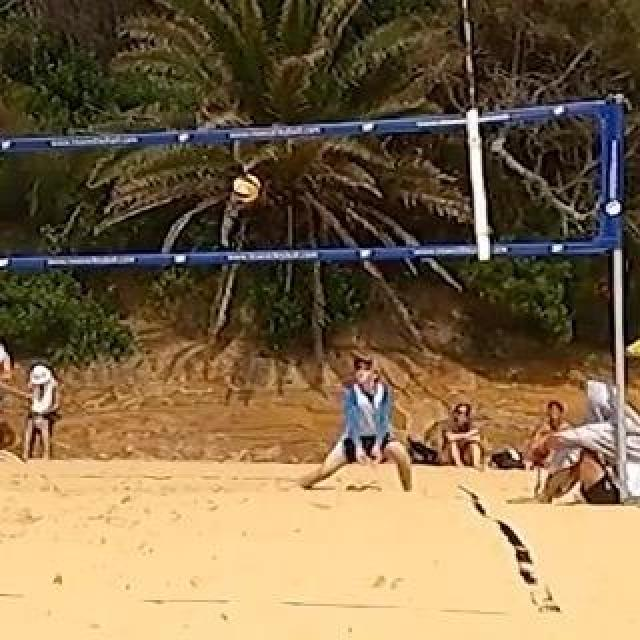volleyball: (233, 174, 261, 202)
